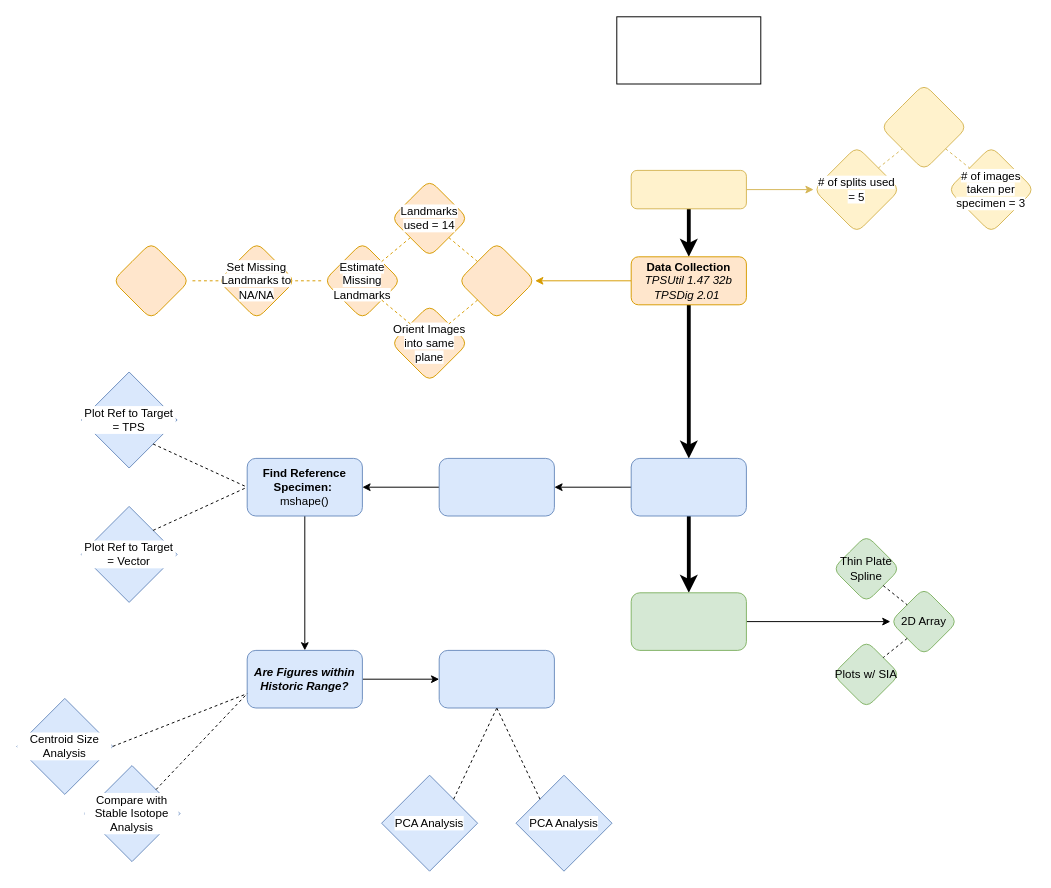
Some shapes in this 1051 by 888 pixel diagram are drawn without their labels. The centre of each missing label's shape, as x and y in pixels:
"# of specimens per split = 5" goes at point (923, 126).
".csv file" goes at point (151, 280).
"Analysis Rstudio 1.25001" goes at point (688, 486).
"Compile Images into TPS file" goes at point (496, 280).
"Current Morphological Variation within/outside past range" goes at point (688, 50).
"Output" goes at point (688, 621).
"Specimen Imaging DinoXcope 2.02" goes at point (688, 189).
"Superimpose Data: Procrustes Analysis" goes at point (496, 486).
"What is Driving Variability?" goes at point (496, 678).
